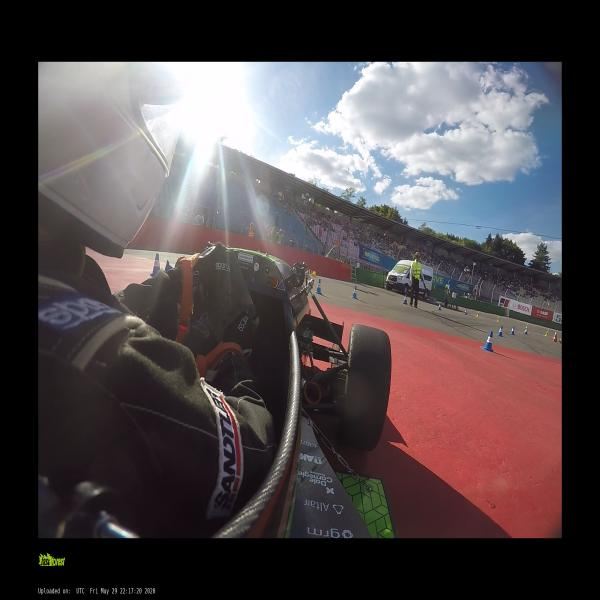blue_cone: (482, 331, 494, 353), (151, 254, 159, 274), (315, 278, 322, 295), (164, 260, 173, 271), (351, 286, 358, 299), (497, 325, 503, 337), (403, 294, 408, 305), (510, 326, 515, 335), (438, 304, 441, 311), (464, 309, 467, 315), (524, 328, 527, 334)
orange_cone: (552, 336, 556, 342), (559, 337, 561, 343), (554, 331, 556, 336)
yellow_cone: (311, 271, 316, 277), (545, 330, 548, 337), (476, 312, 479, 318), (497, 318, 499, 322), (527, 324, 528, 328)
